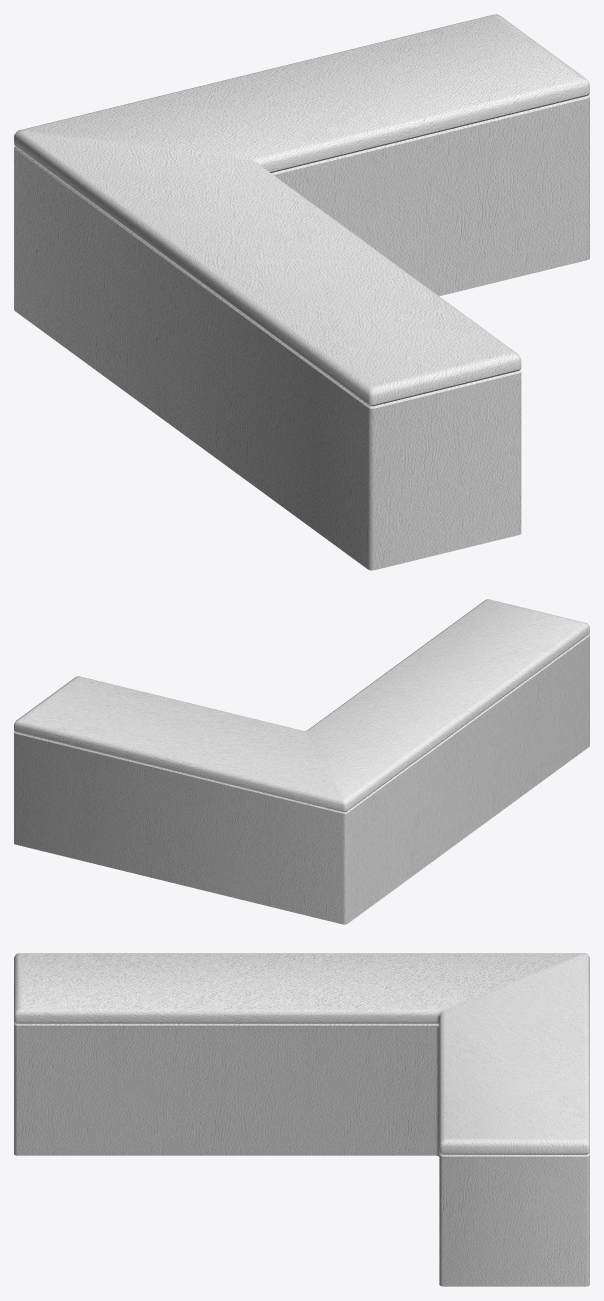
The model's file is leather_garniture.fbx.
3 views of the same model, one above another, from view 1: azimuth 30°, elevation 25°; view 2: azimuth 150°, elevation 25°; view 3: azimuth 270°, elevation 25° (orthographic). The views are drawn at different scales.
Parts seen in each view (by area): view 1: leather_garniture; view 2: leather_garniture; view 3: leather_garniture.
Boxes of the visible parts, box(x1,y1,x2,y2) form: leather_garniture: box(14, 14, 589, 570); leather_garniture: box(14, 599, 589, 924); leather_garniture: box(14, 953, 589, 1286).
Size of the model in its own units: 2.81 by 0.994 by 3.59.
